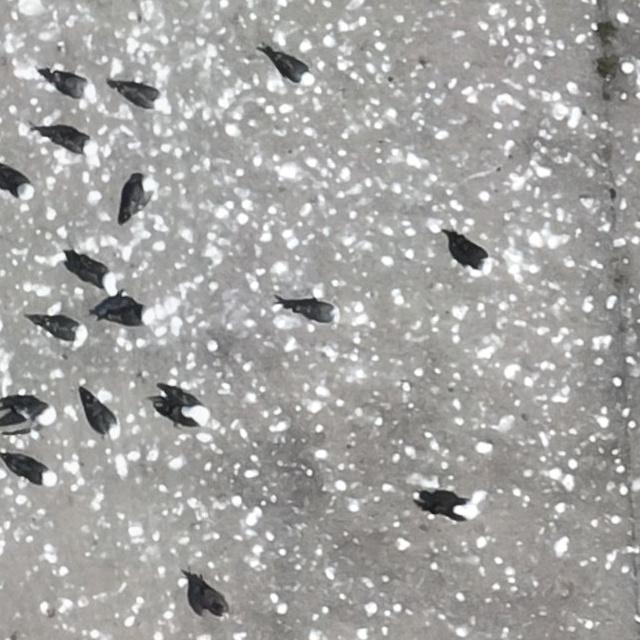umineko: (420, 490, 486, 519), (70, 254, 118, 290), (116, 81, 169, 112), (50, 70, 98, 102), (449, 236, 489, 271), (42, 314, 87, 341), (87, 398, 117, 436), (274, 54, 313, 83), (48, 129, 96, 151), (170, 402, 210, 427), (123, 180, 151, 215), (14, 460, 53, 485), (104, 307, 158, 325), (1, 166, 32, 196), (292, 301, 336, 322), (16, 402, 52, 421)
